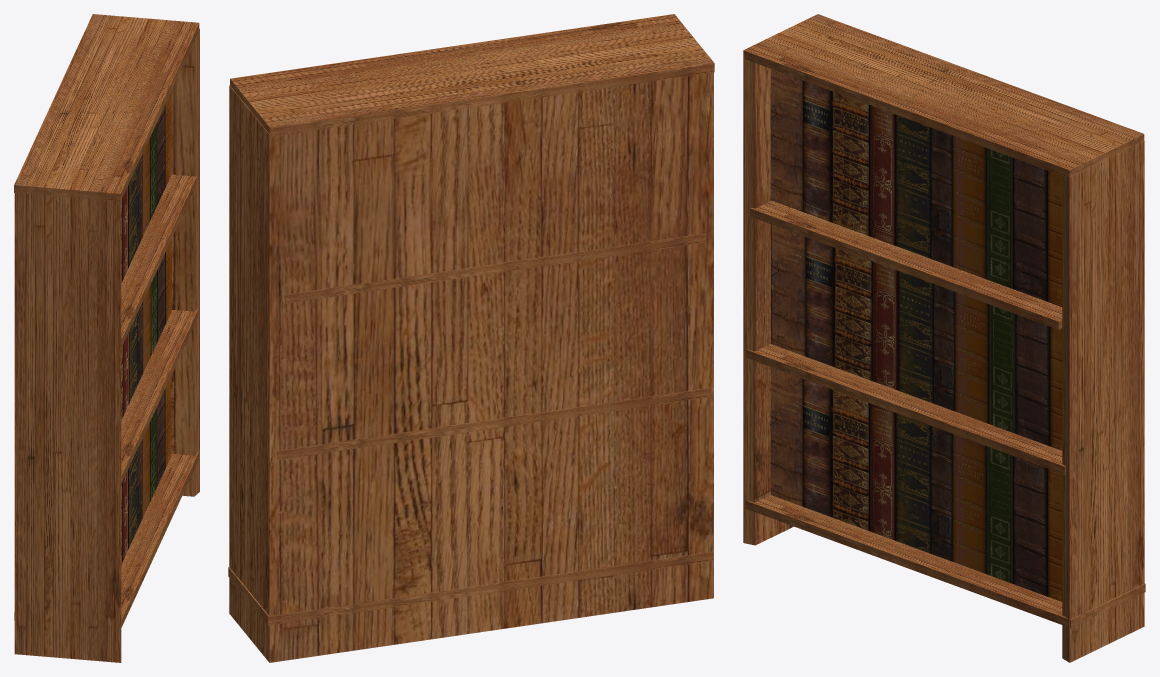
Rendered from Bookshelf_099-145-022__ce81c187-42be-4309-b08e-8fae24213001.dae.
3 renders of one model, left to right at view 1: azimuth 30°, elevation 25°; view 2: azimuth 150°, elevation 25°; view 3: azimuth 270°, elevation 25°, orthographic. The views are drawn at different scales.
Visible parts, largest first — view 1: Bookshelf (×2), Primitive (×6); view 2: Bookshelf, Primitive (×4); view 3: Primitive (×6), Bookshelf (×2).
Part boxes in pixels (<box>): Bookshelf (×2): <box>14,28,199,662</box>; Primitive (×6): <box>14,14,199,627</box>; Bookshelf: <box>229,72,713,662</box>; Primitive (×4): <box>228,14,714,625</box>; Primitive (×6): <box>743,14,1145,627</box>; Bookshelf (×2): <box>743,57,1144,662</box>.
Size of the model in its own units: 1.1 by 1.2 by 1.61.
